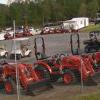Tractor: (25, 42, 98, 89)
